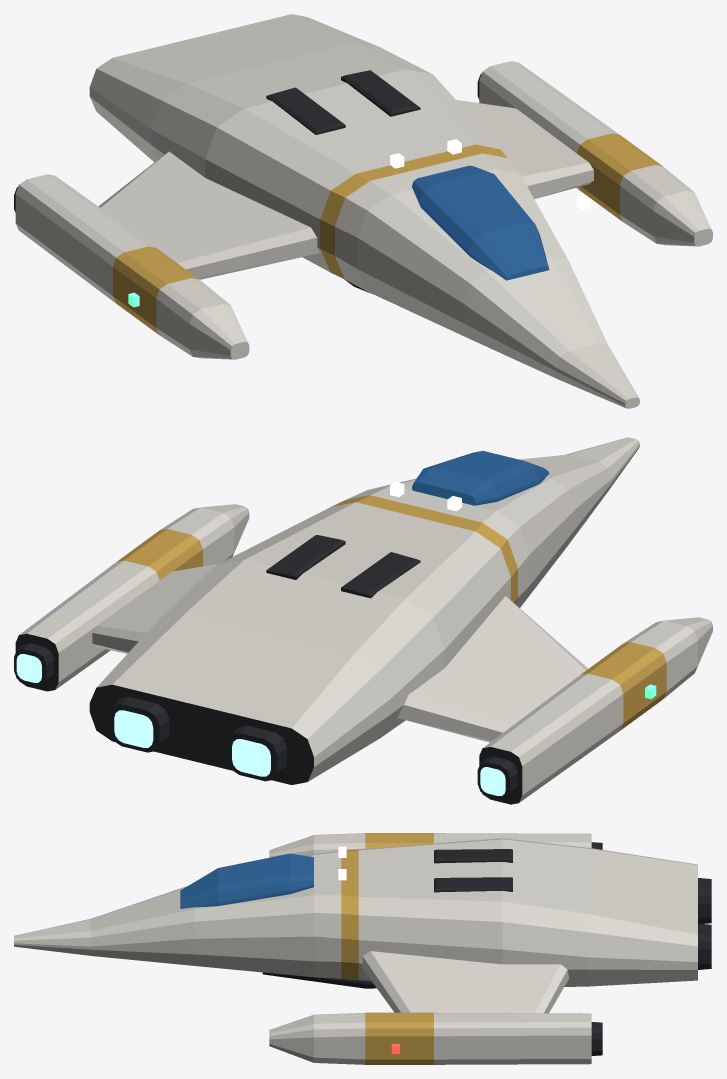
Rendered from imperial-courier.glb.
3 renders of one model, top to bottom at view 1: azimuth 30°, elevation 25°; view 2: azimuth 150°, elevation 25°; view 3: azimuth 270°, elevation 25°, orthographic. The views are drawn at different scales.
Parts seen in each view (by area): view 1: imperial-courier; view 2: imperial-courier; view 3: imperial-courier.
Boxes of the visible parts, x1=… form: imperial-courier: x1=14, y1=14, x2=712, y2=408; imperial-courier: x1=14, y1=437, x2=712, y2=804; imperial-courier: x1=14, y1=833, x2=711, y2=1064.
Bounding box in the file's own units: 27.97 × 7.44 × 40.77.
